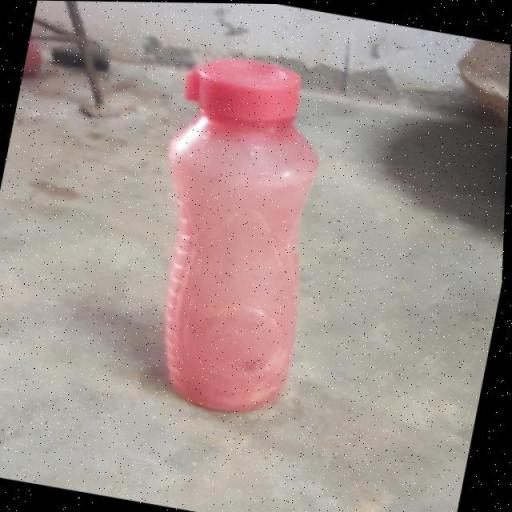plastic: (165, 54, 320, 412)
